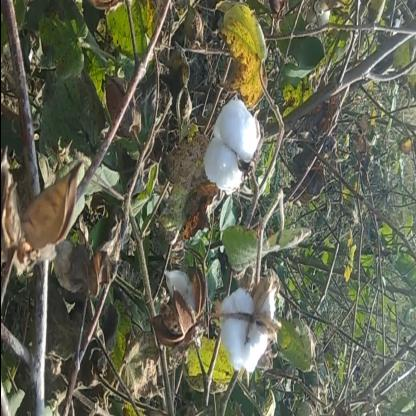cotton_ready: (204, 256, 282, 382), (199, 79, 267, 209)
